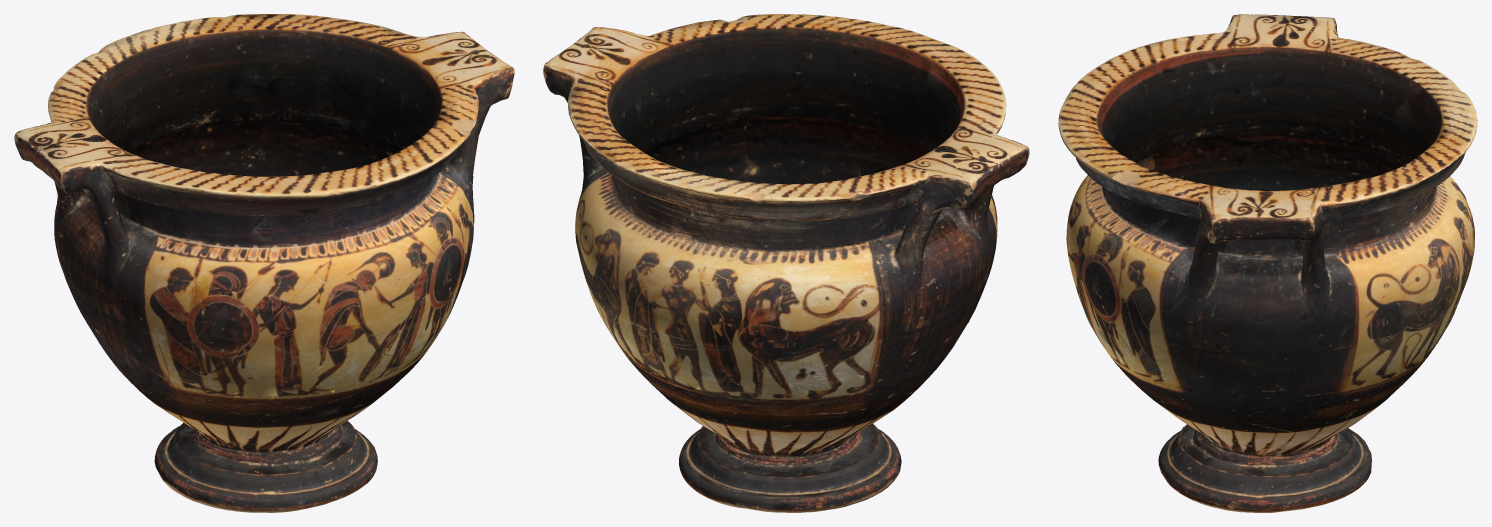
Rendered from bf-olbia-krater.glb.
3 renders of one model, left to right at view 1: azimuth 30°, elevation 25°; view 2: azimuth 150°, elevation 25°; view 3: azimuth 270°, elevation 25°, orthographic. The views are drawn at different scales.
Visible parts, largest first — view 1: Object_14, Object_18, Object_17, Object_3, Object_4, Object_5, Object_13, Object_10, Object_16, Object_6, Object_9, Object_2 (+4 smaller); view 2: Object_13, Object_7, Object_17, Object_15, Object_14, Object_16, Object_8, Object_6, Object_2, Object_18, Object_3, Object_9 (+5 smaller); view 3: Object_14, Object_4, Object_13, Object_5, Object_17, Object_6, Object_18, Object_2, Object_3, Object_7, Object_10, Object_16 (+5 smaller).
Boxes of the visible parts, x1,y1,x2,y2 form: Object_14: (50,14,459,253); Object_18: (22,20,513,511); Object_17: (101,15,512,512); Object_3: (25,125,474,370); Object_4: (54,68,514,409); Object_5: (173,29,513,512); Object_13: (14,68,499,489); Object_10: (63,73,455,413); Object_16: (21,33,434,445); Object_6: (15,40,514,511); Object_9: (55,152,420,408); Object_2: (54,132,469,512); Object_13: (610,14,1022,490); Object_7: (543,49,960,423); Object_17: (545,19,984,381); Object_15: (585,15,978,415); Object_14: (574,14,1028,285); Object_16: (555,53,975,512); Object_8: (645,176,970,512); Object_6: (617,64,1024,476); Object_2: (667,88,927,512); Object_18: (555,27,1029,463); Object_3: (658,31,1008,312); Object_9: (588,125,994,412); Object_14: (1058,36,1477,230); Object_4: (1086,17,1466,403); Object_13: (1058,33,1397,512); Object_5: (1066,179,1464,490); Object_17: (1059,47,1477,495); Object_6: (1135,14,1474,509); Object_18: (1158,14,1432,507); Object_2: (1080,174,1387,512); Object_3: (1076,58,1355,458); Object_7: (1102,64,1474,480); Object_10: (1066,81,1427,504); Object_16: (1158,68,1424,505).
Size of the model in its own units: 1.9 by 1.51 by 1.6.
2 materials, 2 textured.
